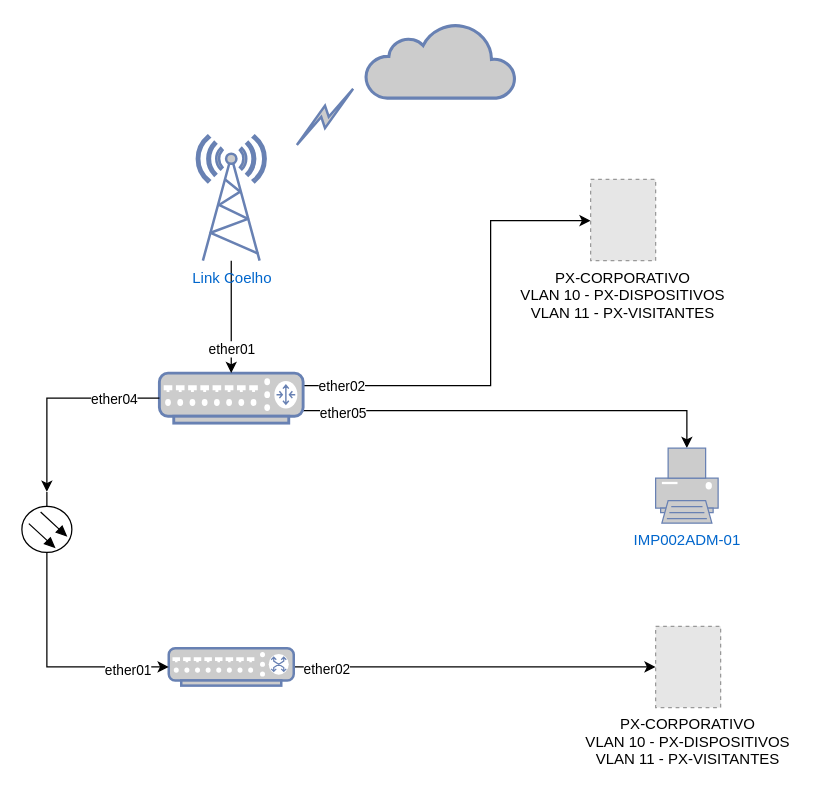
This 813x790 diagram has some shape labels left out. Grey dashed boxes stand in for pictures. The shapes that lost their labels are listed below. From the top down, each one's centre as x and y in pixels, then its label:
At (231,397): "router PX-CORPORATIVO VLAN 10 - PX-DISPOSITIVOS VLAN 11 - PX-VISITANTES".
At (230,666): "SW002PX-01".
